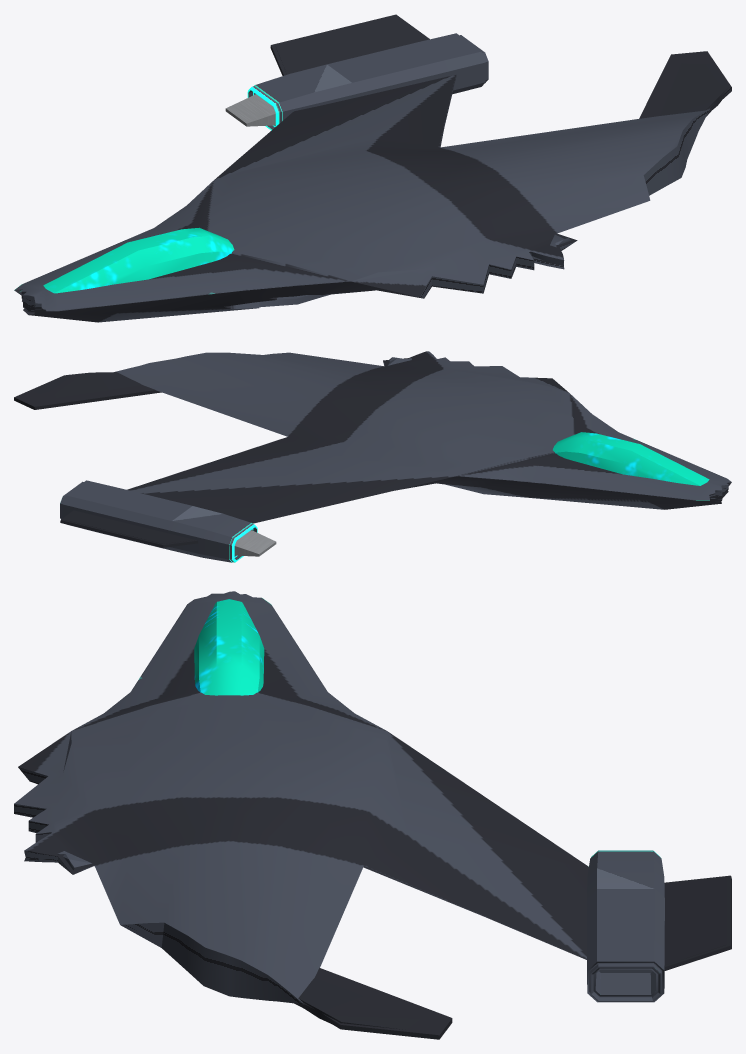
Rendered from r_spaceship_crashed.fbx.
3 renders of one model, top to bottom at view 1: azimuth 30°, elevation 25°; view 2: azimuth 150°, elevation 25°; view 3: azimuth 270°, elevation 25°, orthographic. The views are drawn at different scales.
Visible parts, largest first — view 1: r_spaceship_crashed; view 2: r_spaceship_crashed; view 3: r_spaceship_crashed.
Part boxes in pixels (x1,y1,x2,y2): r_spaceship_crashed: [14, 14, 731, 322]; r_spaceship_crashed: [14, 351, 731, 562]; r_spaceship_crashed: [14, 591, 731, 1039].
Bounding box in the file's own units: 2876 × 321 × 2017.
Materials: 1 (1 with a texture image).
